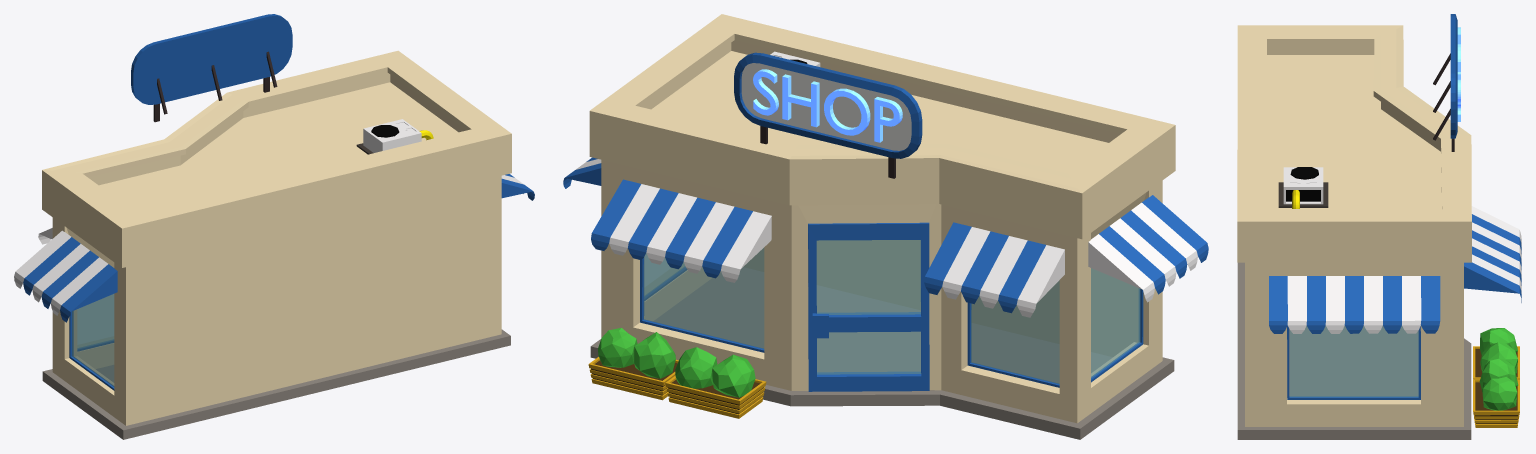
The model's file is shop-general-orange-a_night.glb.
3 views of the same model, side by side, from view 1: azimuth 30°, elevation 25°; view 2: azimuth 150°, elevation 25°; view 3: azimuth 270°, elevation 25° (orthographic). The views are drawn at different scales.
Visible parts, largest first — view 1: casa base, tetto, sign_2, base.001, tenda frontale facciata dx, finestra facciata dx, finestra dx, cassetta, sign_0, tenda frontale.001; view 2: casa base, base.001, porta, tenda frontale, tetto, finestra frontale sx, tenda frontale piccola, tenda frontale facciata dx, finestra dx, sign_1, finestra facciata dx, sign_2 (+9 smaller); view 3: casa base, tetto, base.001, tenda frontale.001, finestra sx, tenda frontale, vaso rettangolare sx 3, cassetta, Icosphere.003, sign_2, Icosphere, Icosphere.001 (+6 smaller).
Part boxes in pixels (x1,y1,x2,y2): casa base: (42,50,511,425); tetto: (99,82,458,211); sign_2: (131,14,292,104); base.001: (42,329,510,439); tenda frontale facciata dx: (14,230,117,322); finestra facciata dx: (69,294,114,390); finestra dx: (77,294,113,351); cassetta: (363,119,421,152); sign_0: (153,51,277,122); tenda frontale.001: (501,174,534,200); casa base: (589,14,1175,423); base.001: (590,267,1174,439); porta: (808,222,929,391); tenda frontale: (591,179,771,282); tetto: (651,51,1108,173); finestra frontale sx: (640,248,764,352); tenda frontale piccola: (924,222,1064,317); tenda frontale facciata dx: (1088,195,1208,302); finestra dx: (967,280,1059,387); sign_1: (741,63,911,150); finestra facciata dx: (1091,268,1143,382); sign_2: (734,52,922,158); casa base: (1237,25,1471,426); tetto: (1267,55,1441,209); base.001: (1237,262,1471,439); tenda frontale.001: (1269,276,1440,333); finestra sx: (1287,325,1420,399); tenda frontale: (1464,206,1521,302); vaso rettangolare sx 3: (1473,379,1519,427); cassetta: (1283,167,1323,204); Icosphere.003: (1482,377,1517,410); sign_2: (1450,14,1457,138); Icosphere: (1479,358,1518,392); Icosphere.001: (1480,342,1517,373).
Bounding box in the file's own units: 7.67 × 4.48 × 3.89.
